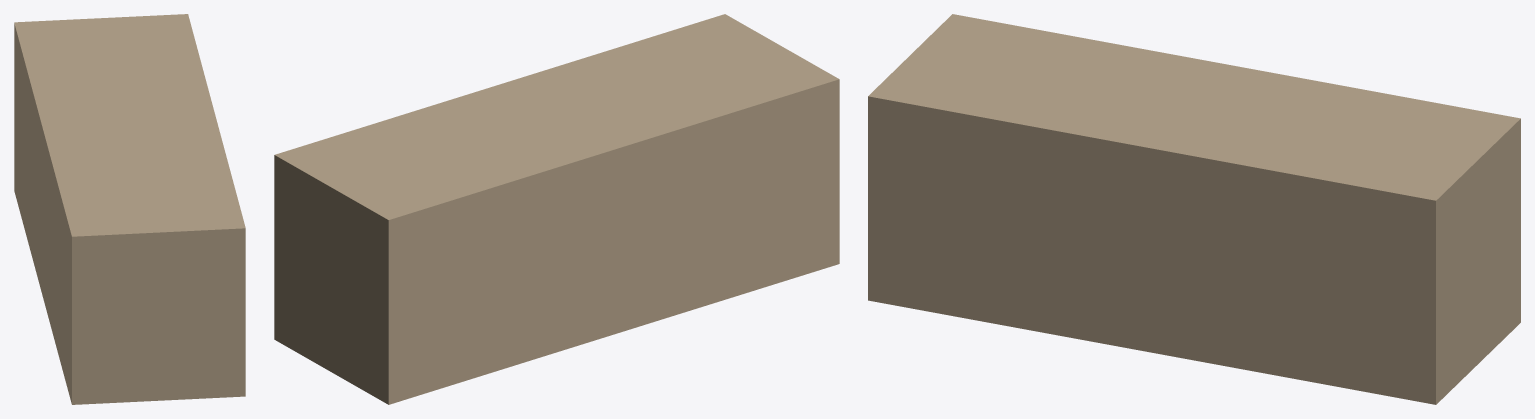
Rendered from bld_101524551.dae.
The picture shows the model from 3 angles, left to right: view 1: azimuth 30°, elevation 25°; view 2: azimuth 150°, elevation 25°; view 3: azimuth 270°, elevation 25°; orthographic projection. The views are drawn at different scales.
Parts seen in each view (by area): view 1: bld_101524551; view 2: bld_101524551; view 3: bld_101524551.
Part boxes in pixels (<box>): bld_101524551: <box>14,14,245,404</box>; bld_101524551: <box>274,14,839,404</box>; bld_101524551: <box>868,14,1520,404</box>.
Bounding box in the file's own units: 15.69 × 23.18 × 8.
